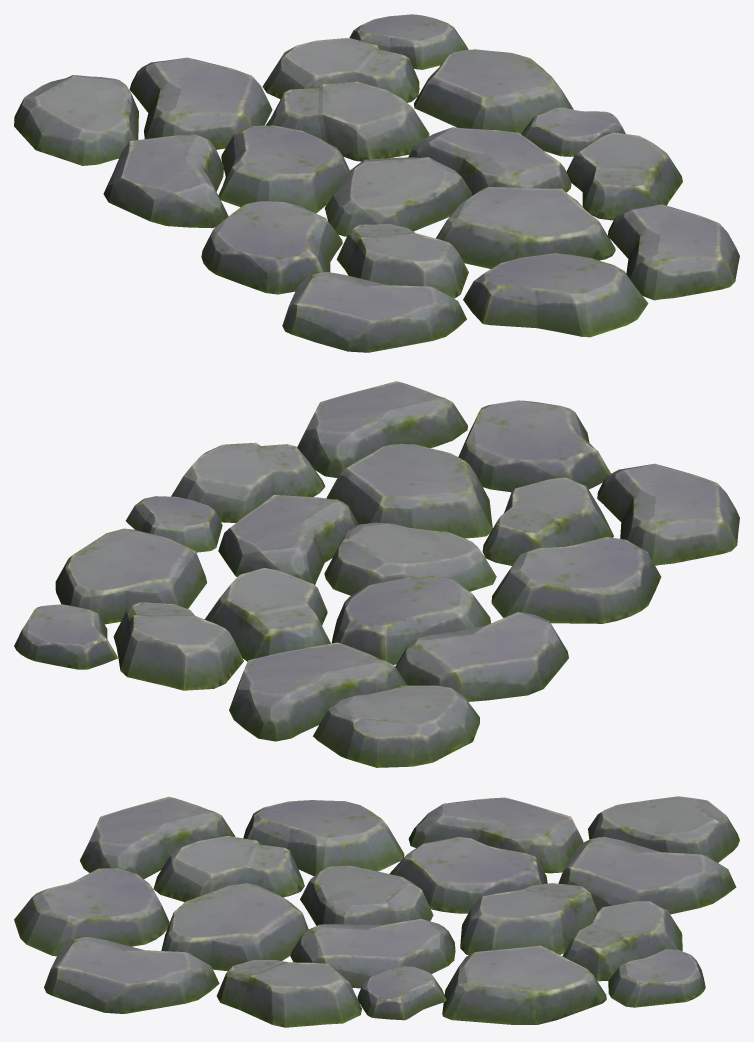
The model's file is nat_rockpath_round_thin.glb.
3 renders of one model, top to bottom at view 1: azimuth 30°, elevation 25°; view 2: azimuth 150°, elevation 25°; view 3: azimuth 270°, elevation 25°, orthographic. The views are drawn at different scales.
Parts seen in each view (by area): view 1: RockPath_Round_Thin; view 2: RockPath_Round_Thin; view 3: RockPath_Round_Thin.
Boxes of the visible parts, x1,y1,x2,y2 form: RockPath_Round_Thin: [14, 14, 739, 352]; RockPath_Round_Thin: [14, 381, 739, 767]; RockPath_Round_Thin: [14, 796, 739, 1027].
Bounding box in the file's own units: 1.46 × 0.1104 × 2.09.
1 material, 1 textured.
